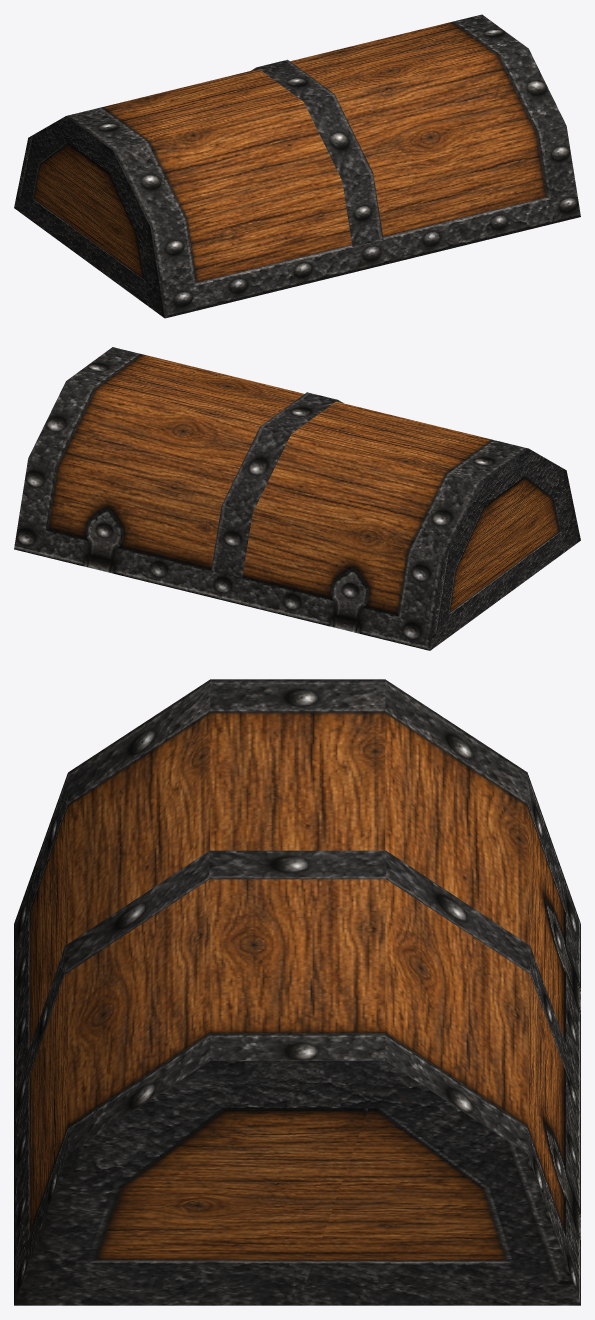
Rendered from mm9_deco_chest3_lid.glb.
The picture shows the model from 3 angles, top to bottom: view 1: azimuth 30°, elevation 25°; view 2: azimuth 150°, elevation 25°; view 3: azimuth 270°, elevation 25°; orthographic projection. The views are drawn at different scales.
Parts seen in each view (by area): view 1: Chest3; view 2: Chest3; view 3: Chest3.
Part boxes in pixels (left/top/right/bottom): Chest3: left=14, top=14, right=580, bottom=318; Chest3: left=14, top=347, right=580, bottom=650; Chest3: left=14, top=679, right=580, bottom=1305.
Size of the model in its own units: 1 by 0.3039 by 0.6291.
Materials: 1 (1 with a texture image).
